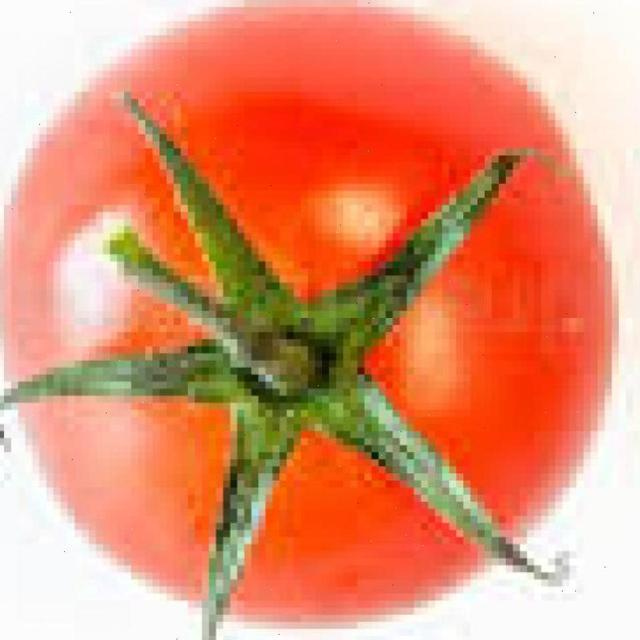Healthy Fruit: (0, 0, 402, 416)
